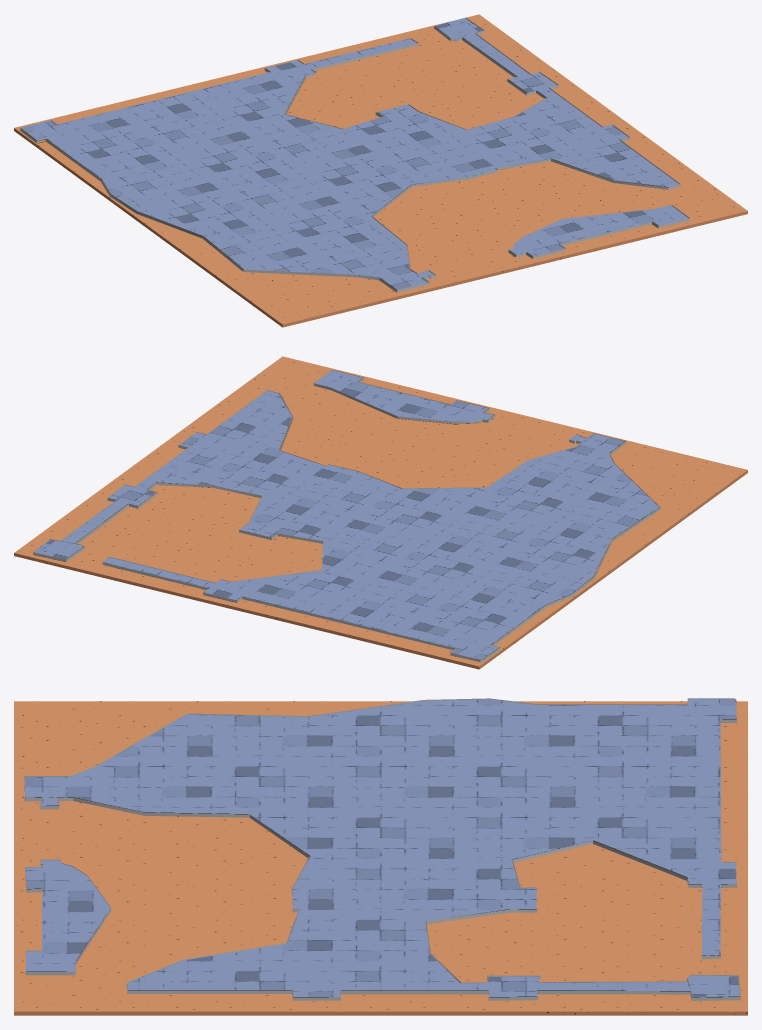
The model's file is Room08A_Floor_Tiles_Art.fbx.
3 views of the same model, one above another, from view 1: azimuth 30°, elevation 25°; view 2: azimuth 150°, elevation 25°; view 3: azimuth 270°, elevation 25° (orthographic). The views are drawn at different scales.
Parts seen in each view (by area): view 1: Room08A_Floor_Tiles_Art, Room08A_Floor_Sand, Room08A_Floor_Shadows; view 2: Room08A_Floor_Tiles_Art, Room08A_Floor_Sand, Room08A_Floor_Shadows; view 3: Room08A_Floor_Tiles_Art, Room08A_Floor_Sand, Room08A_Floor_Shadows.
Boxes of the visible parts, bbox=[...] form: Room08A_Floor_Tiles_Art: bbox=[21, 18, 688, 290]; Room08A_Floor_Sand: bbox=[14, 14, 747, 327]; Room08A_Floor_Shadows: bbox=[20, 17, 689, 292]; Room08A_Floor_Tiles_Art: bbox=[34, 370, 659, 659]; Room08A_Floor_Sand: bbox=[14, 356, 747, 669]; Room08A_Floor_Shadows: bbox=[33, 370, 660, 662]; Room08A_Floor_Tiles_Art: bbox=[24, 699, 740, 997]; Room08A_Floor_Sand: bbox=[14, 701, 747, 1015]; Room08A_Floor_Shadows: bbox=[24, 698, 740, 1000].
Bounding box in the file's own units: 1600 × 19.22 × 1600.
